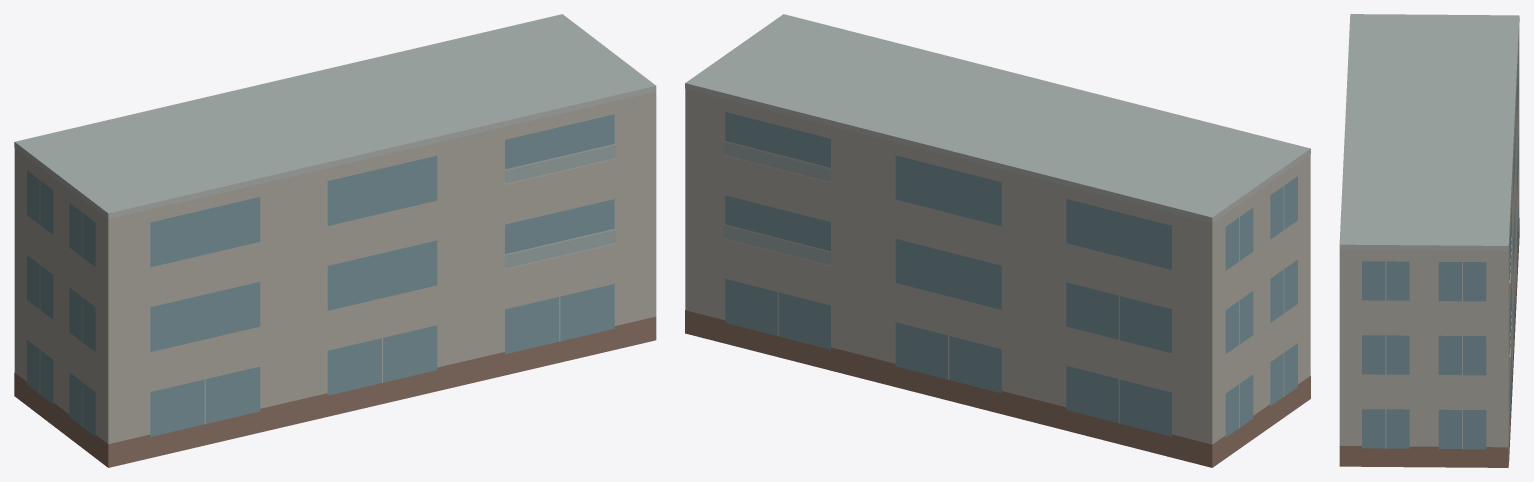
File: survey-upis-32836685.glb
3 views of the same model, side by side, from view 1: azimuth 30°, elevation 25°; view 2: azimuth 150°, elevation 25°; view 3: azimuth 270°, elevation 25° (orthographic). The views are drawn at different scales.
Visible parts, largest first — view 1: survey-upis-32836685.tmp; view 2: survey-upis-32836685.tmp; view 3: survey-upis-32836685.tmp.
Boxes of the visible parts, x1,y1,x2,y2 form: survey-upis-32836685.tmp: (14, 14, 656, 467); survey-upis-32836685.tmp: (685, 14, 1310, 467); survey-upis-32836685.tmp: (1339, 14, 1519, 467).
Size of the model in its own units: 24 by 10.7 by 7.87.
